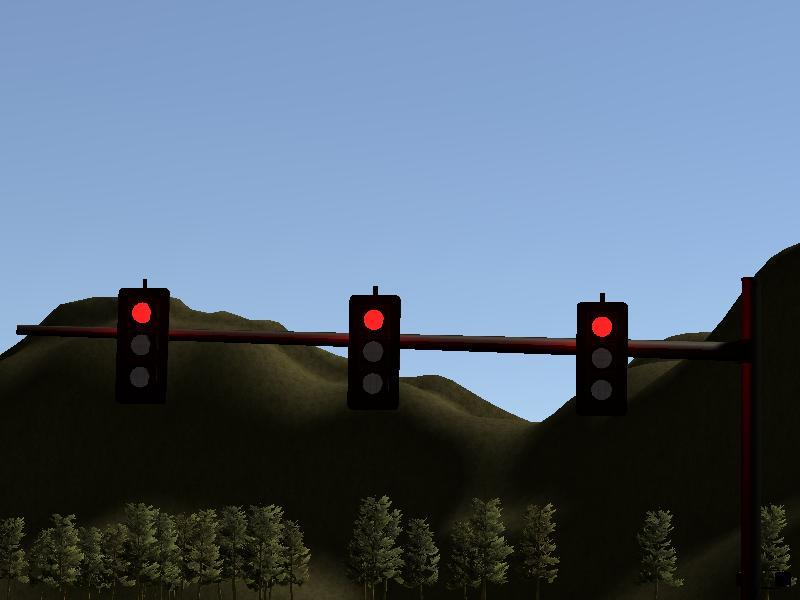Red: (350, 294, 399, 409), (578, 302, 627, 415), (119, 287, 165, 403)
